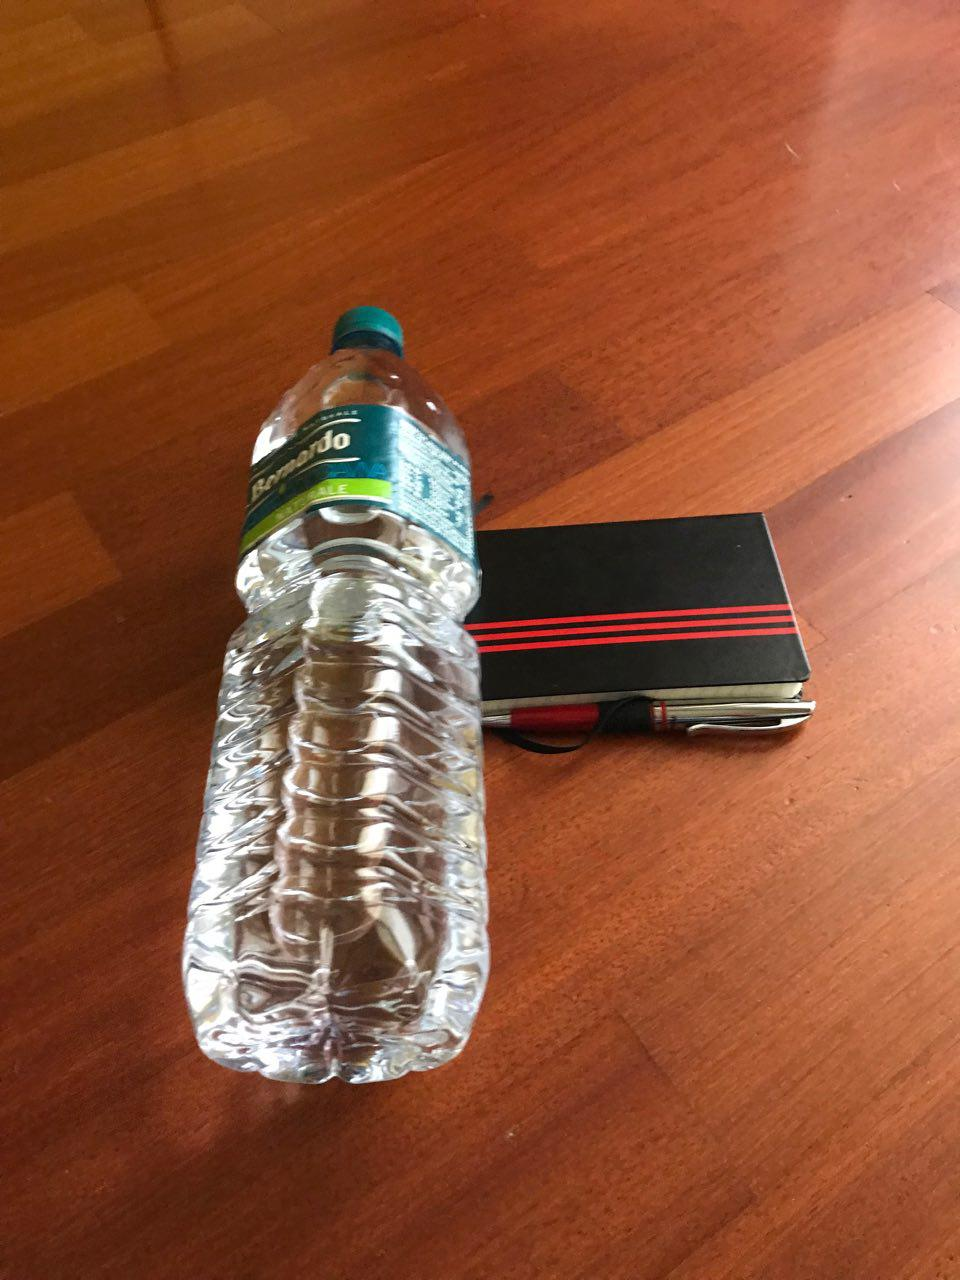san_bernardo: (178, 304, 494, 1087)
